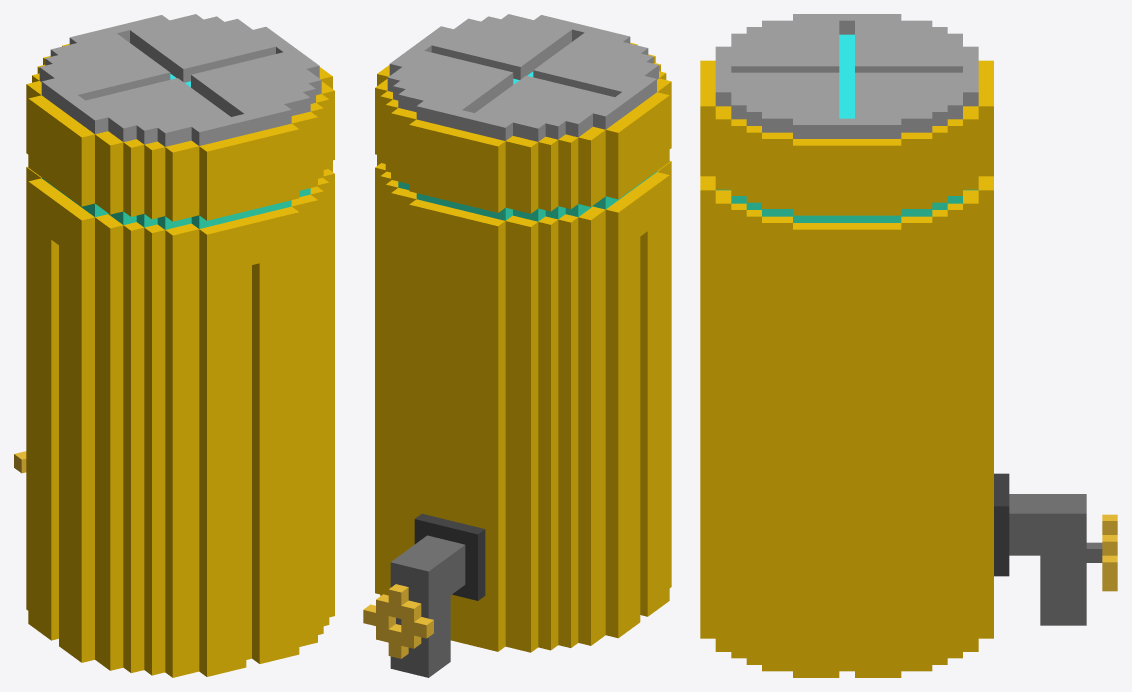
The model's file is YellowSilo.dae.
The picture shows the model from 3 angles, left to right: view 1: azimuth 30°, elevation 25°; view 2: azimuth 150°, elevation 25°; view 3: azimuth 270°, elevation 25°; orthographic projection. The views are drawn at different scales.
Parts seen in each view (by area): view 1: yellowsilo.merged; view 2: yellowsilo.merged; view 3: yellowsilo.merged.
Part boxes in pixels (bbox=[...]): yellowsilo.merged: bbox=[14, 14, 334, 677]; yellowsilo.merged: bbox=[363, 14, 671, 677]; yellowsilo.merged: bbox=[700, 14, 1117, 677].
Size of the model in its own units: 1.9 by 3.9 by 2.7.
Materials: 1 (1 with a texture image).
